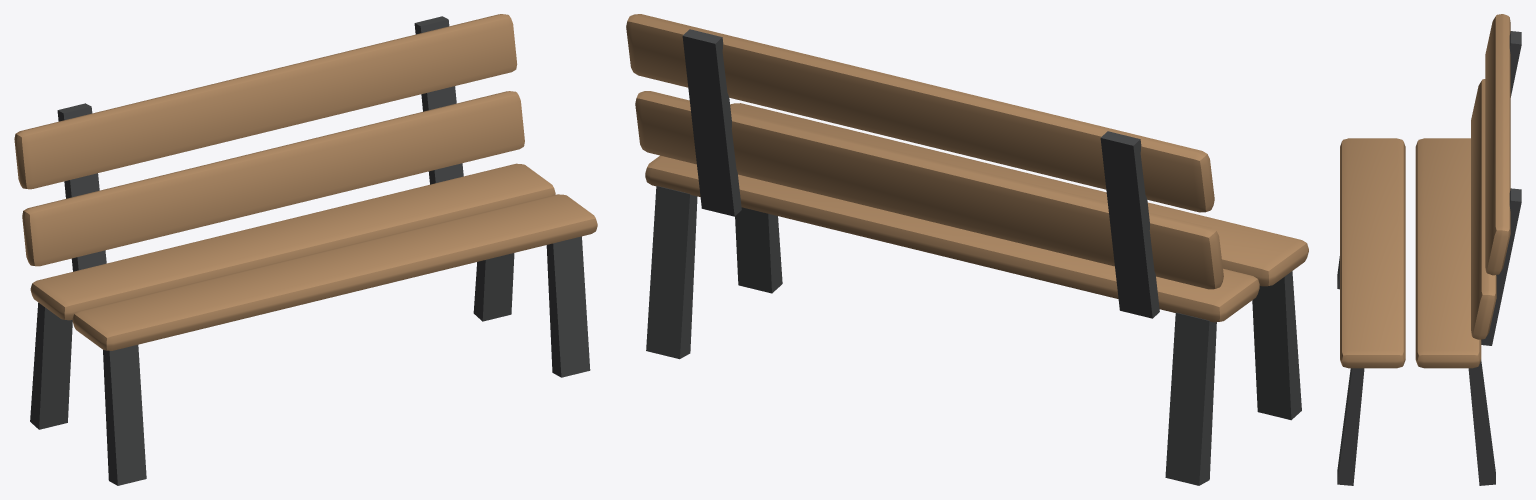
Rendered from SM_bench.fbx.
3 views of the same model, side by side, from view 1: azimuth 30°, elevation 25°; view 2: azimuth 150°, elevation 25°; view 3: azimuth 270°, elevation 25° (orthographic). The views are drawn at different scales.
Parts seen in each view (by area): view 1: Line007; view 2: Line007; view 3: Line007.
Boxes of the visible parts, box(x1,y1,x2,y2) form: Line007: box(14, 14, 597, 485); Line007: box(626, 14, 1308, 485); Line007: box(1337, 14, 1521, 485).
Size of the model in its own units: 88.61 by 50.24 by 31.7.
